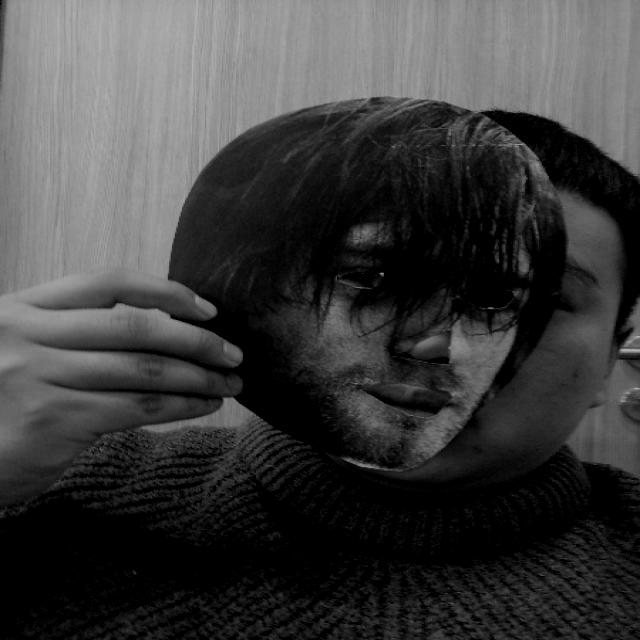fake: (164, 95, 566, 476)
